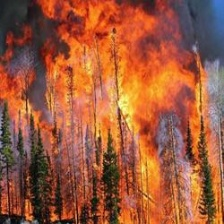fire: (53, 12, 210, 143)
